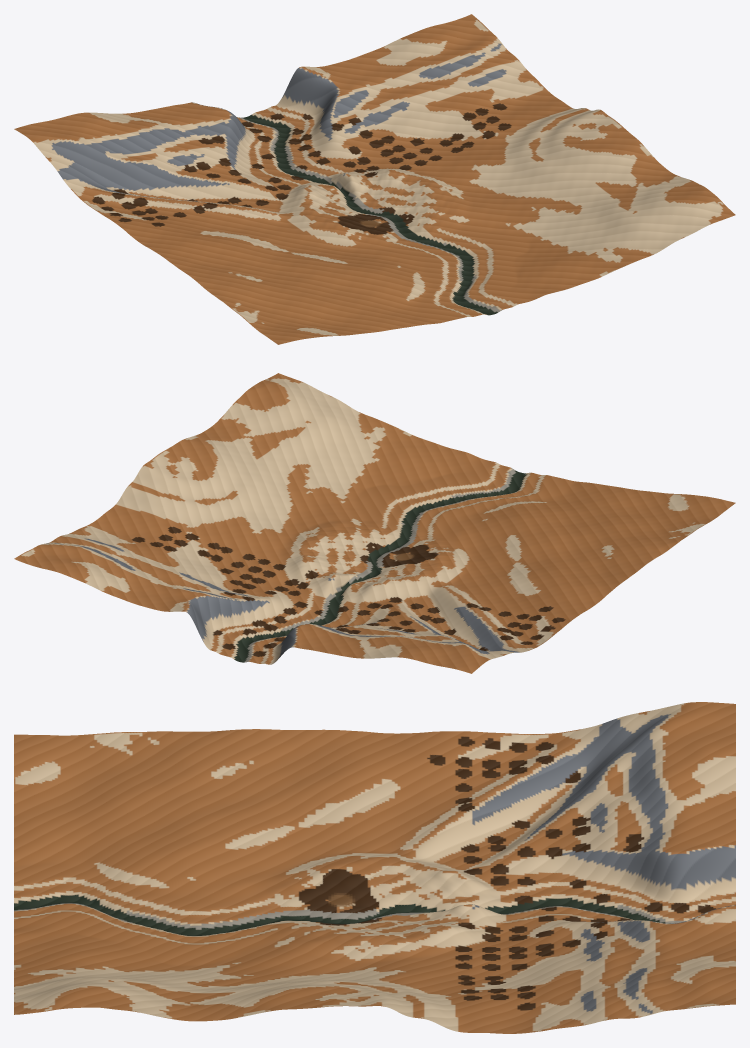
File: catchment-ground.glb
The picture shows the model from 3 angles, top to bottom: view 1: azimuth 30°, elevation 25°; view 2: azimuth 150°, elevation 25°; view 3: azimuth 270°, elevation 25°; orthographic projection. The views are drawn at different scales.
Visible parts, largest first — view 1: catchment-ground; view 2: catchment-ground; view 3: catchment-ground.
Part boxes in pixels (x1,y1,x2,y2): catchment-ground: (14, 14, 735, 344); catchment-ground: (14, 373, 735, 673); catchment-ground: (14, 702, 735, 1033).
Bounding box in the file's own units: 600 × 60.88 × 600.
1 material, 1 textured.
